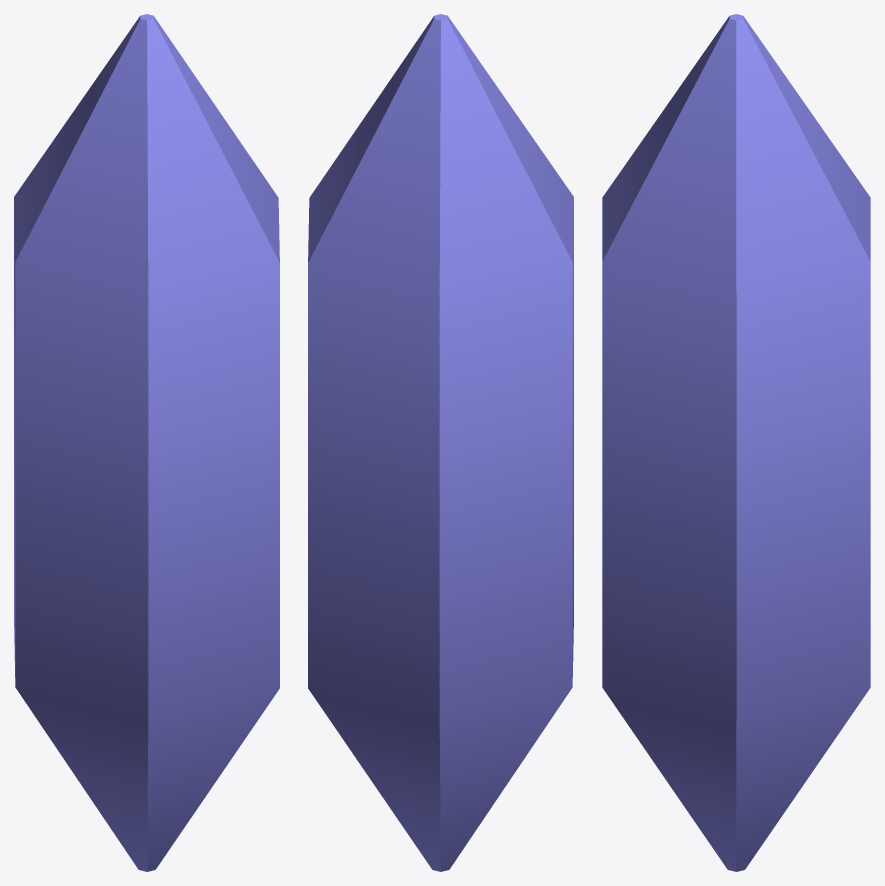
The model's file is watercrystal.obj.
3 views of the same model, side by side, from view 1: azimuth 30°, elevation 25°; view 2: azimuth 150°, elevation 25°; view 3: azimuth 270°, elevation 25° (orthographic).
Parts seen in each view (by area): view 1: g0; view 2: g0; view 3: g0.
Part boxes in pixels (x1,y1,x2,y2): g0: (14,14,279,871); g0: (308,14,573,871); g0: (602,14,870,871).
Size of the model in its own units: 0.2592 by 0.8 by 0.2289.
